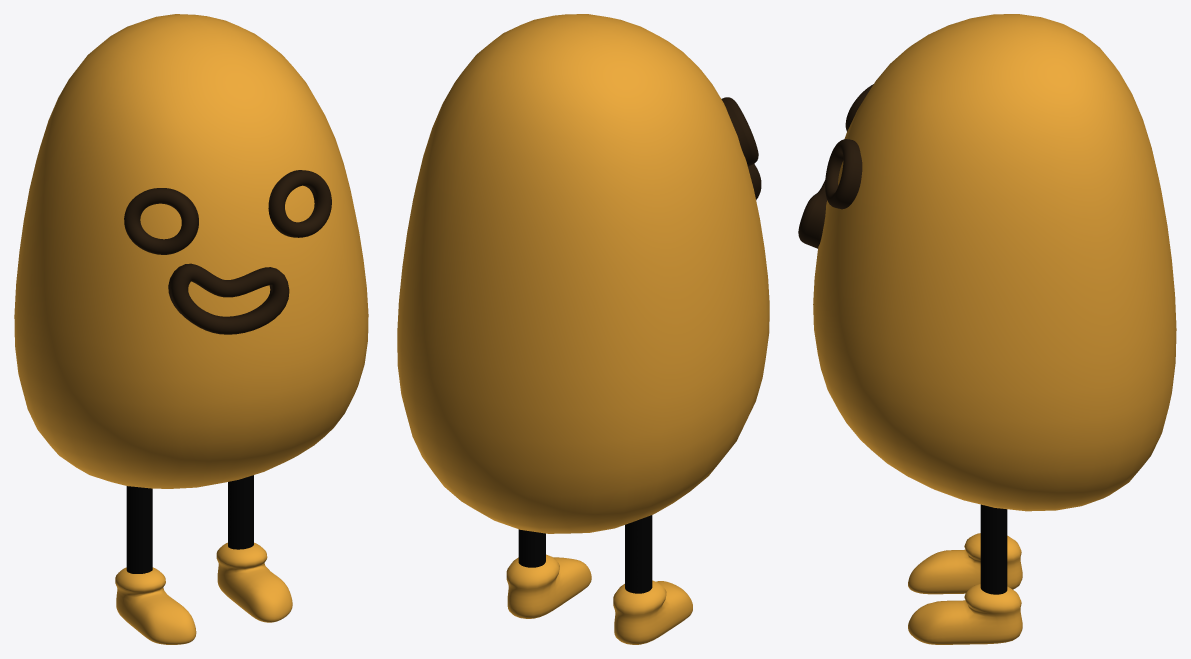
File: smallPotato_D.fbx
The picture shows the model from 3 angles, left to right: view 1: azimuth 30°, elevation 25°; view 2: azimuth 150°, elevation 25°; view 3: azimuth 270°, elevation 25°; orthographic projection. The views are drawn at different scales.
Visible parts, largest first — view 1: Potato_D, PotatoShoe_D, Mouth_D, PotatoLef_D, EyeR_D, EyeL_D; view 2: Potato_D, PotatoShoe_D, PotatoLef_D, EyeR_D; view 3: Potato_D, PotatoShoe_D, PotatoLef_D, EyeL_D, Mouth_D.
Boxes of the visible parts, box(x1,y1,x2,y2) form: Potato_D: box(14, 14, 368, 488); PotatoShoe_D: box(115, 542, 292, 644); Mouth_D: box(168, 263, 289, 334); PotatoLef_D: box(126, 475, 253, 573); EyeR_D: box(124, 188, 198, 254); EyeL_D: box(268, 170, 331, 237); Potato_D: box(397, 14, 769, 533); PotatoShoe_D: box(506, 554, 692, 644); PotatoLef_D: box(518, 515, 652, 593); EyeR_D: box(721, 97, 758, 166); Potato_D: box(813, 14, 1176, 511); PotatoShoe_D: box(908, 533, 1022, 644); PotatoLef_D: box(980, 504, 1007, 594); EyeL_D: box(825, 139, 862, 209); Mouth_D: box(798, 180, 826, 248).
Bounding box in the file's own units: 68.23 × 125 × 73.1.
